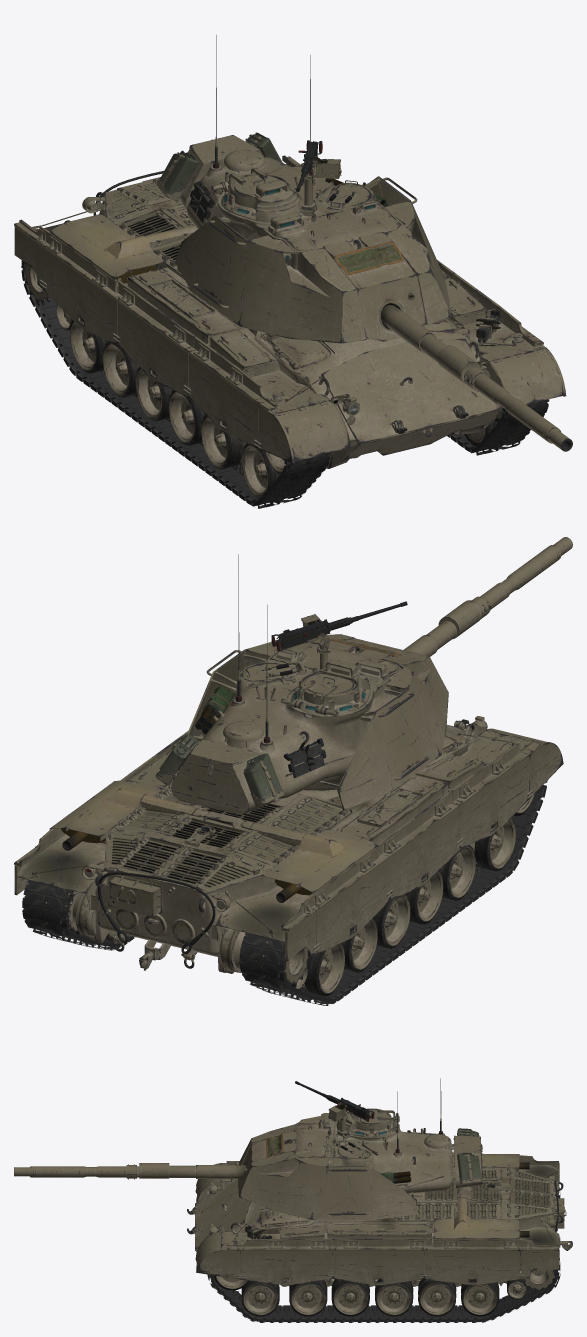
The model's file is m47_patton_improved_world_of_tanks.glb.
3 renders of one model, top to bottom at view 1: azimuth 30°, elevation 25°; view 2: azimuth 150°, elevation 25°; view 3: azimuth 270°, elevation 25°, orthographic. The views are drawn at different scales.
Parts seen in each view (by area): view 1: Object_7, Object_8, Object_2, Object_4, Object_5, Object_6; view 2: Object_7, Object_8, Object_4, Object_5, Object_2, Object_6; view 3: Object_7, Object_8, Object_3, Object_6, Object_2.
Part boxes in pixels (bbox=[...]): Object_7: bbox=[14, 155, 566, 468]; Object_8: bbox=[156, 35, 451, 343]; Object_2: bbox=[334, 241, 572, 451]; Object_4: bbox=[22, 263, 310, 498]; Object_5: bbox=[21, 260, 330, 508]; Object_6: bbox=[447, 349, 549, 455]; Object_7: bbox=[14, 716, 563, 973]; Object_8: bbox=[155, 554, 448, 814]; Object_4: bbox=[239, 794, 534, 995]; Object_5: bbox=[239, 781, 547, 1005]; Object_2: bbox=[331, 537, 572, 656]; Object_6: bbox=[22, 880, 135, 950]; Object_7: bbox=[187, 1154, 572, 1285]; Object_8: bbox=[238, 1078, 483, 1219]; Object_3: bbox=[214, 1264, 557, 1316]; Object_6: bbox=[207, 1252, 560, 1322]; Object_2: bbox=[14, 1133, 283, 1188].
Bounding box in the file's own units: 3.61 × 4.6 × 9.64.
6 materials, 6 textured.
